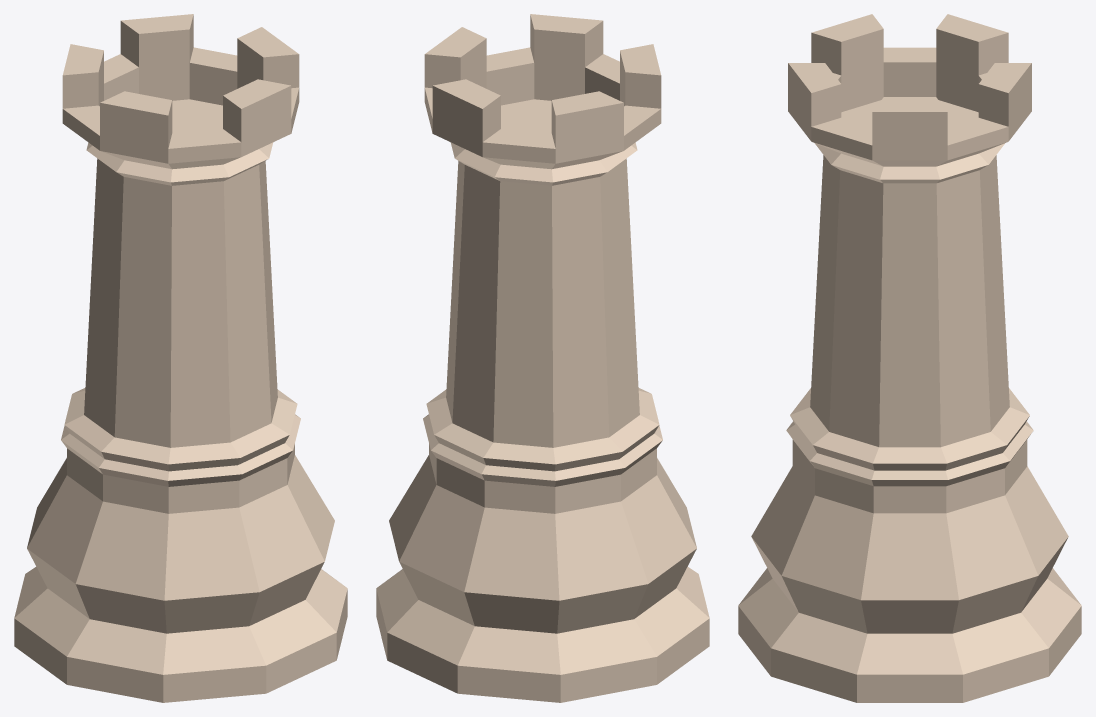
File: Rook white.fbx
The picture shows the model from 3 angles, left to right: view 1: azimuth 30°, elevation 25°; view 2: azimuth 150°, elevation 25°; view 3: azimuth 270°, elevation 25°; orthographic projection.
Visible parts, largest first — view 1: Rook .001; view 2: Rook .001; view 3: Rook .001.
Boxes of the visible parts, <box> form: Rook .001: <box>14,14,347,702</box>; Rook .001: <box>376,14,709,702</box>; Rook .001: <box>738,14,1081,702</box>.
Bounding box in the file's own units: 0.0285 × 0.055 × 0.03.
